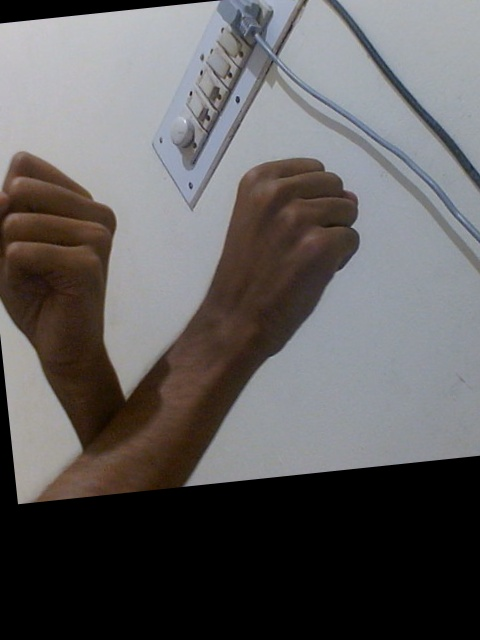hand: (206, 151, 366, 364), (1, 149, 121, 377)
